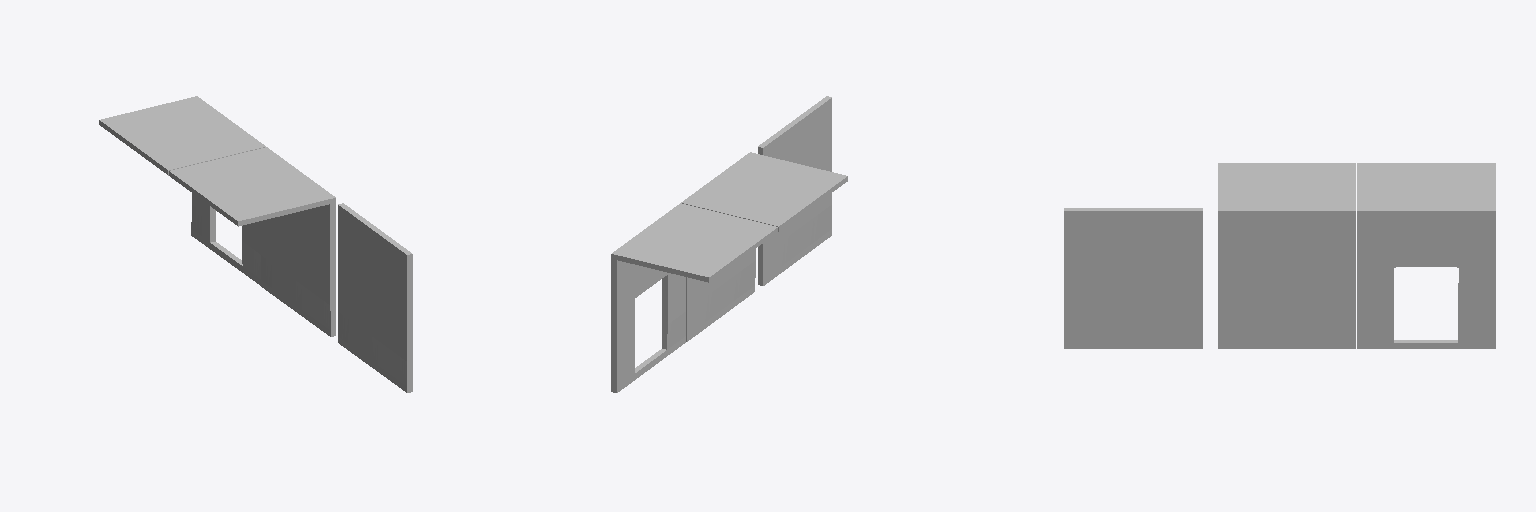
File: Walls.obj
3 views of the same model, side by side, from view 1: azimuth 30°, elevation 25°; view 2: azimuth 150°, elevation 25°; view 3: azimuth 270°, elevation 25° (orthographic).
Parts seen in each view (by area): view 1: Wall_2_1, Wall_1_1, Door_Way_1_1; view 2: Door_Way_1_1, Wall_2_1, Wall_1_1; view 3: Wall_2_1, Door_Way_1_1, Wall_1_1.
Part boxes in pixels (x1,y1,x2,y2): Wall_2_1: (169,147,335,336); Wall_1_1: (338,203,412,392); Door_Way_1_1: (99,96,265,285); Door_Way_1_1: (611,203,777,392); Wall_2_1: (681,152,847,341); Wall_1_1: (758,96,831,285); Wall_2_1: (1218,163,1355,348); Door_Way_1_1: (1357,163,1495,348); Wall_1_1: (1064,208,1202,348).
Bounding box in the file's own units: 3.97 × 5.35 × 15.11.